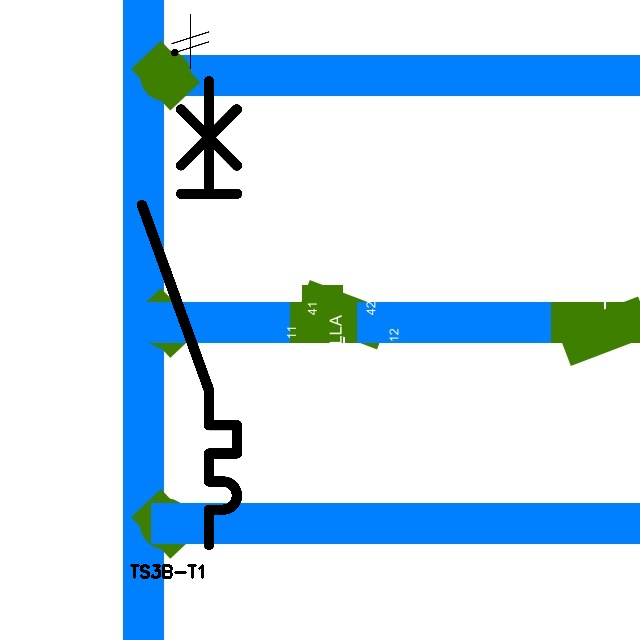interruptor_termomagnetico: (130, 69, 249, 557)
